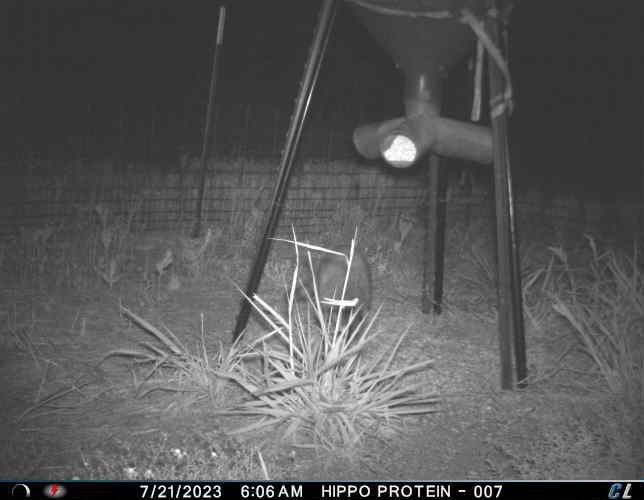Raccoon: (291, 241, 375, 339)
